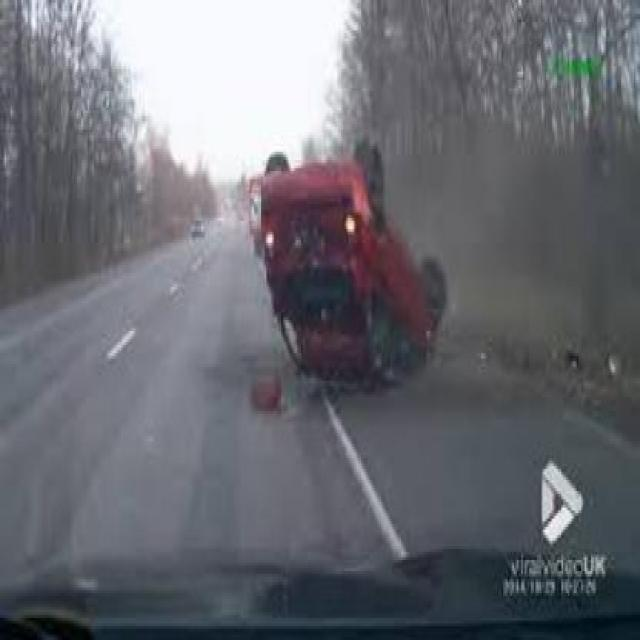accident: (249, 122, 449, 408)
